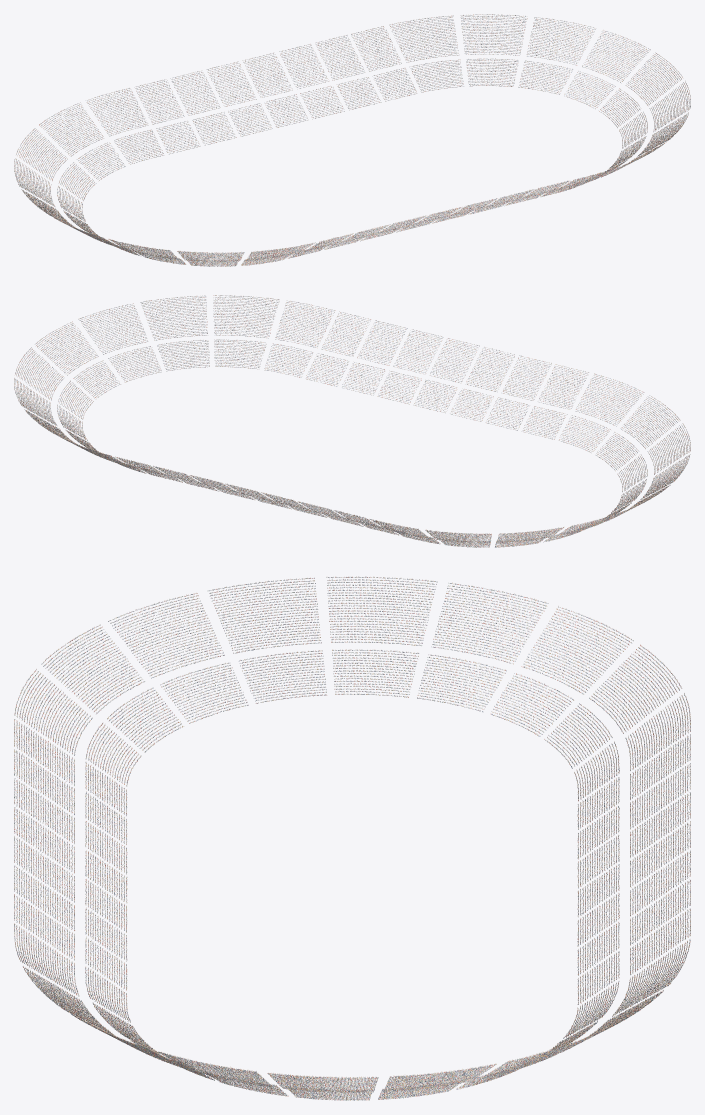
Rendered from BristolCrowd.fbx.
3 views of the same model, one above another, from view 1: azimuth 30°, elevation 25°; view 2: azimuth 150°, elevation 25°; view 3: azimuth 270°, elevation 25° (orthographic). The views are drawn at different scales.
Parts seen in each view (by area): view 1: AttendanceTier2, AttendanceTier0, AttendanceTier1; view 2: AttendanceTier2, AttendanceTier0, AttendanceTier1; view 3: AttendanceTier2, AttendanceTier0, AttendanceTier1.
Boxes of the visible parts, <box> form: AttendanceTier2: <box>14,14,690,266</box>; AttendanceTier0: <box>14,14,690,266</box>; AttendanceTier1: <box>14,14,690,266</box>; AttendanceTier2: <box>14,295,690,547</box>; AttendanceTier0: <box>14,295,690,547</box>; AttendanceTier1: <box>14,295,690,547</box>; AttendanceTier2: <box>14,576,690,1100</box>; AttendanceTier0: <box>14,577,690,1100</box>; AttendanceTier1: <box>14,576,690,1100</box>.
Bounding box in the file's own units: 46158 × 3053 × 26368.
